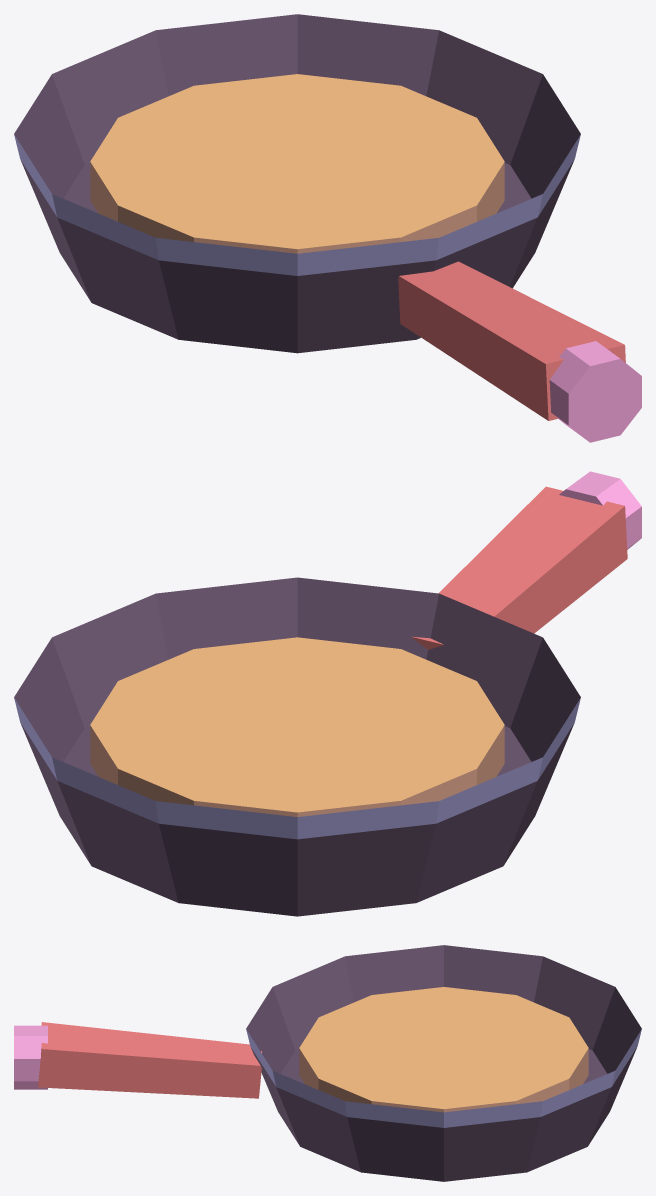
The model's file is pan.glb.
The picture shows the model from 3 angles, top to bottom: view 1: azimuth 30°, elevation 25°; view 2: azimuth 150°, elevation 25°; view 3: azimuth 270°, elevation 25°; orthographic projection. The views are drawn at different scales.
Parts seen in each view (by area): view 1: Pan, Pancake; view 2: Pan, Pancake; view 3: Pan, Pancake.
Part boxes in pixels (x1,y1,x2,y2): Pan: (14,14,641,442); Pancake: (90,74,504,253); Pan: (14,471,641,916); Pancake: (90,637,504,816); Pan: (14,945,641,1181); Pancake: (299,987,588,1112).
Bounding box in the file's own units: 0.93 × 0.215 × 1.47.
